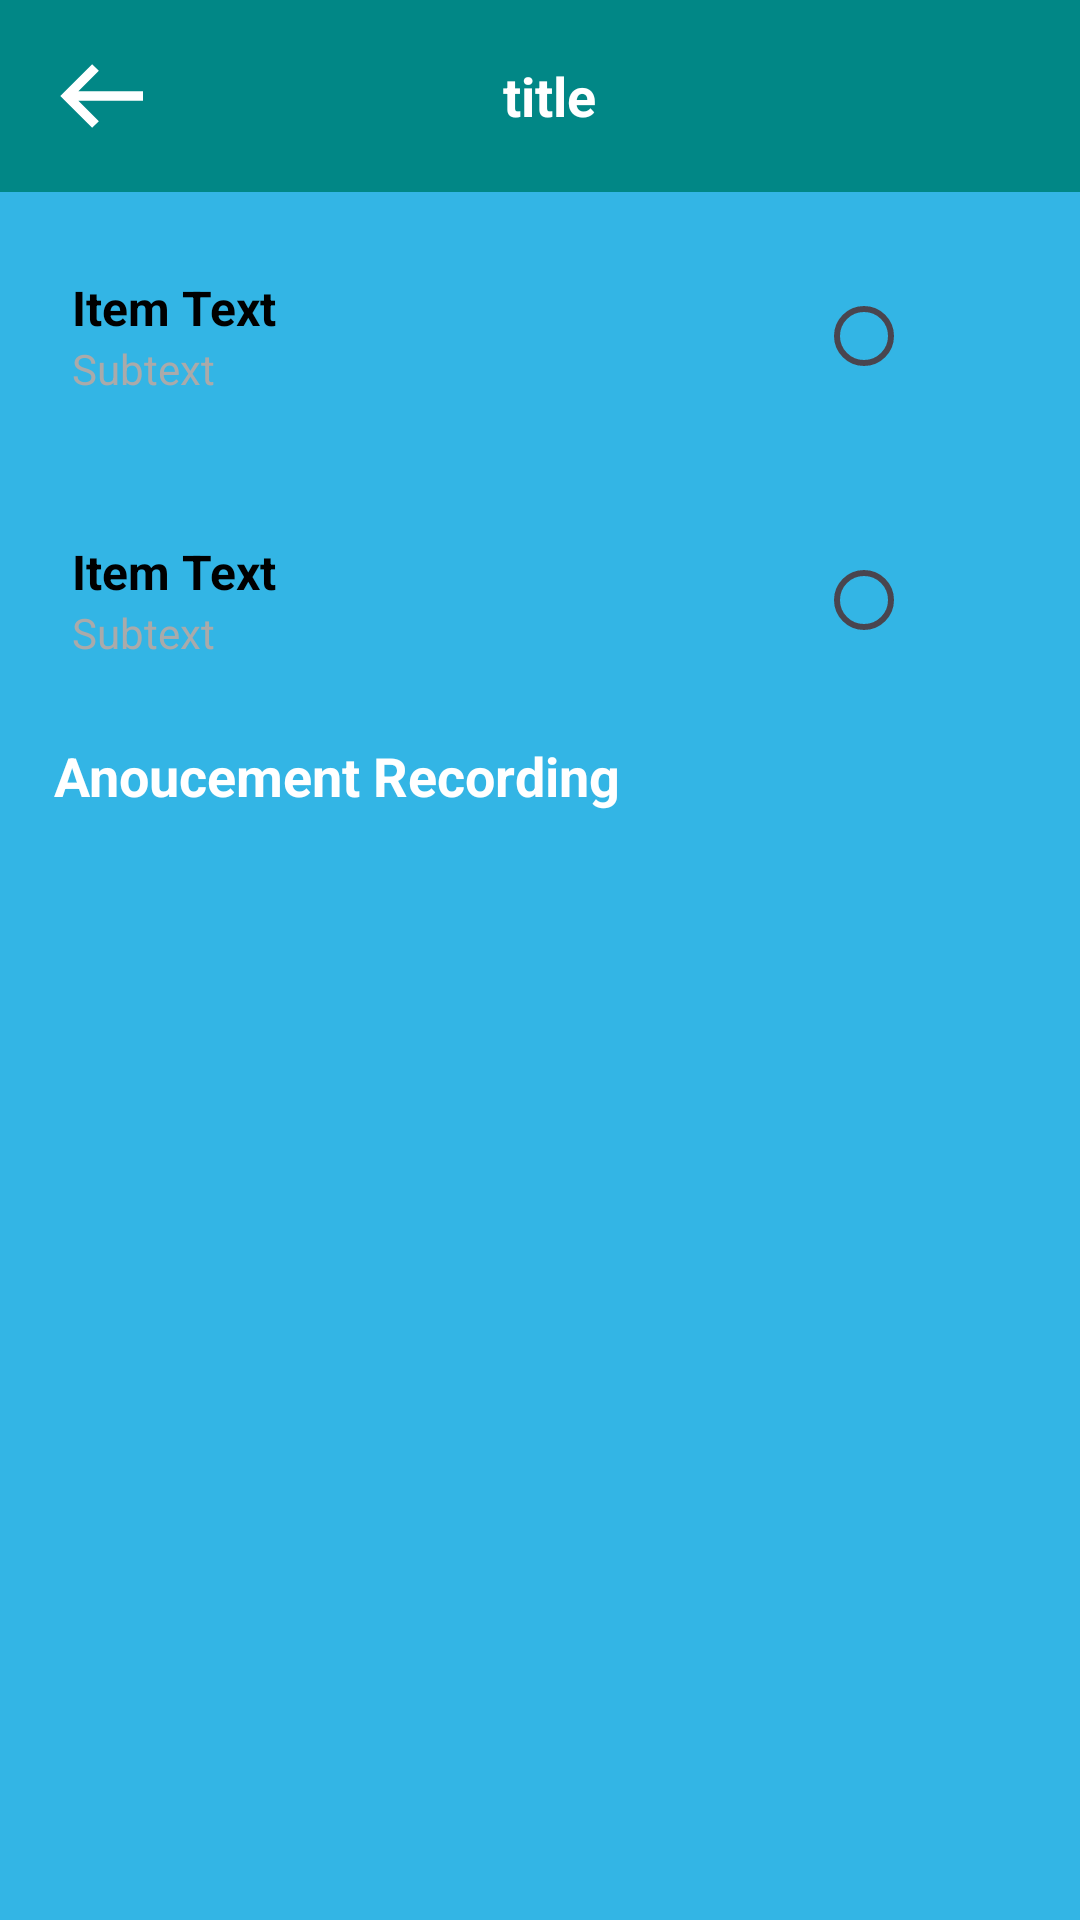

Locate icon controls on the screen. Image size 1080px x 1920px, boxes as (x1, y1, x2, y2).
back: (60, 64, 143, 128)
